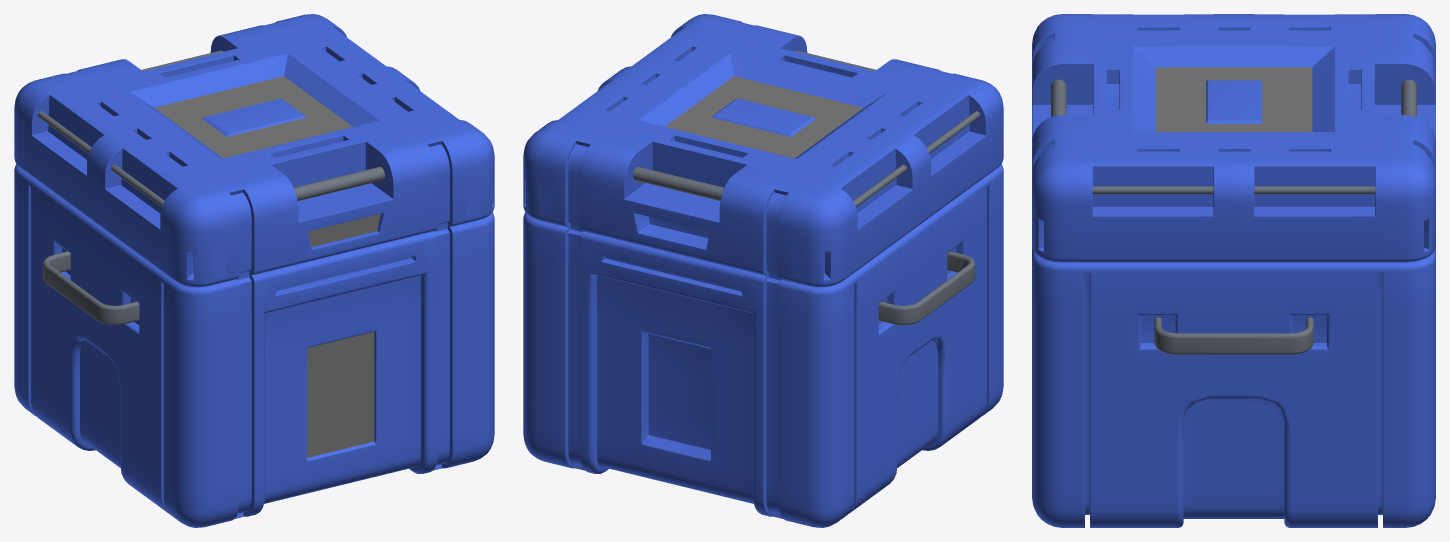
File: Crate.glb
3 renders of one model, left to right at view 1: azimuth 30°, elevation 25°; view 2: azimuth 150°, elevation 25°; view 3: azimuth 270°, elevation 25°, orthographic. The views are drawn at different scales.
Visible parts, largest first — view 1: Crate, Grates, Top Grate, Top Handles, Side Handles; view 2: Crate, Top Grate, Top Handles, Side Handles; view 3: Crate, Top Grate, Side Handles, Top Handles.
Boxes of the visible parts, box(x1,y1,x2,y2) form: Crate: box(14, 14, 494, 527); Grates: box(307, 214, 380, 457); Top Grate: box(154, 76, 352, 158); Top Handles: box(37, 50, 384, 207); Side Handles: box(42, 251, 139, 325); Crate: box(523, 14, 1003, 527); Top Grate: box(665, 76, 863, 158); Top Handles: box(633, 50, 980, 207); Side Handles: box(878, 251, 975, 325); Crate: box(1032, 14, 1435, 527); Top Grate: box(1155, 67, 1312, 131); Side Handles: box(1154, 317, 1313, 354); Top Handles: box(1051, 79, 1416, 194).
Size of the model in its own units: 2.31 by 1.99 by 2.
